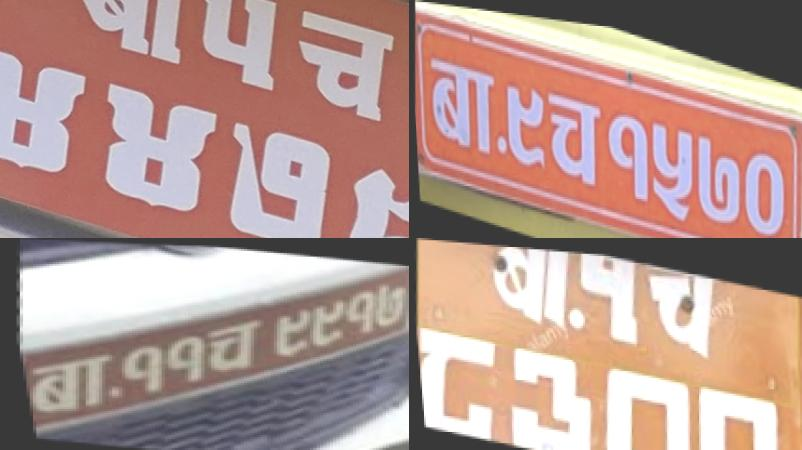0: (587, 351, 700, 450), (680, 369, 786, 450), (736, 131, 790, 236)
1: (568, 249, 649, 349), (598, 95, 654, 208), (103, 341, 168, 397), (151, 330, 208, 382), (333, 284, 380, 334)
3: (497, 334, 600, 450)
4: (76, 61, 234, 229), (0, 25, 98, 186)
5: (180, 0, 292, 97), (643, 106, 698, 224)
7: (206, 100, 340, 238), (688, 119, 745, 227), (365, 278, 409, 326)
8: (414, 317, 505, 440)
9: (323, 137, 409, 238), (496, 67, 551, 181), (256, 303, 316, 355), (299, 294, 349, 348)
ba: (480, 243, 586, 340), (419, 45, 500, 168), (57, 0, 202, 66), (16, 348, 111, 419)
cha: (278, 0, 407, 126), (631, 258, 730, 368), (538, 74, 606, 198), (188, 311, 262, 374)
